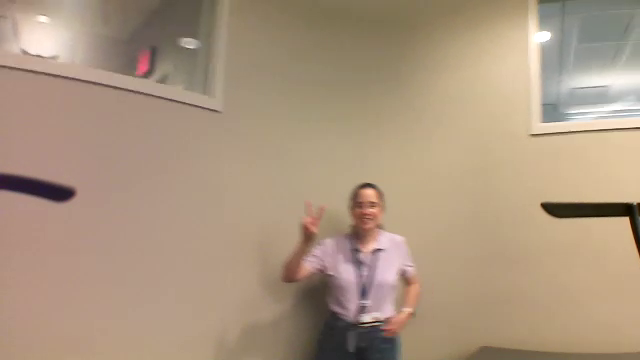peace: (301, 195, 328, 243)
